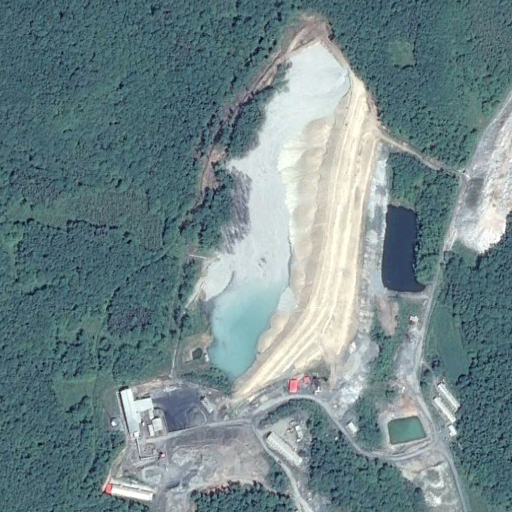tp: (199, 35, 375, 394)
